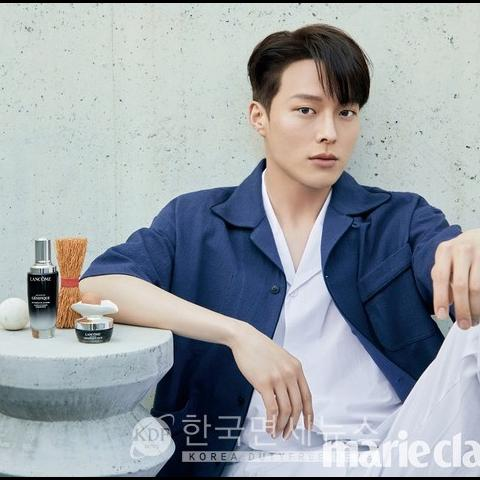opened: (284, 90, 360, 128)
